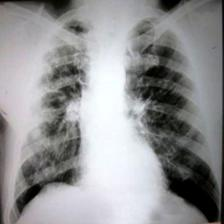tuberculosis: (9, 11, 222, 224)
